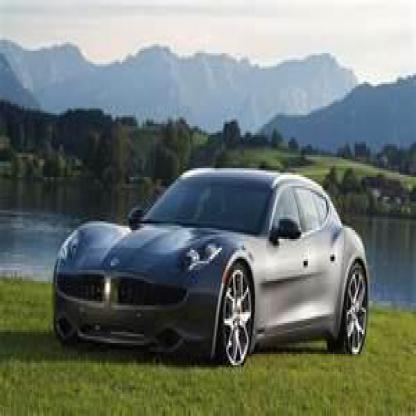Vehicle: (51, 164, 373, 374)
